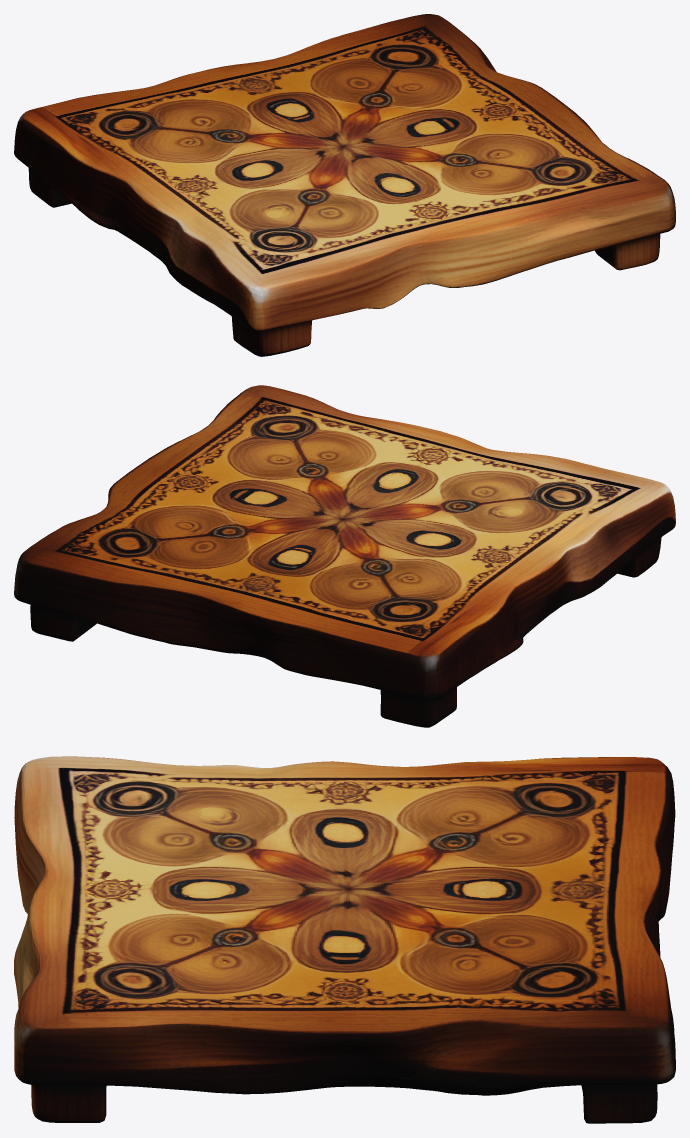
Rendered from wooden-game-board-rustic.jpeg.glb.
The picture shows the model from 3 angles, top to bottom: view 1: azimuth 30°, elevation 25°; view 2: azimuth 150°, elevation 25°; view 3: azimuth 270°, elevation 25°; orthographic projection. The views are drawn at different scales.
Visible parts, largest first — view 1: world; view 2: world; view 3: world.
Part boxes in pixels (<box>): world: <box>14,14,675,356</box>; world: <box>14,385,675,727</box>; world: <box>14,756,675,1123</box>.
Bounding box in the file's own units: 0.9999 × 0.1737 × 0.9998.
1 material, 1 textured.
